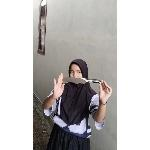Pisau: (60, 74, 106, 88)
